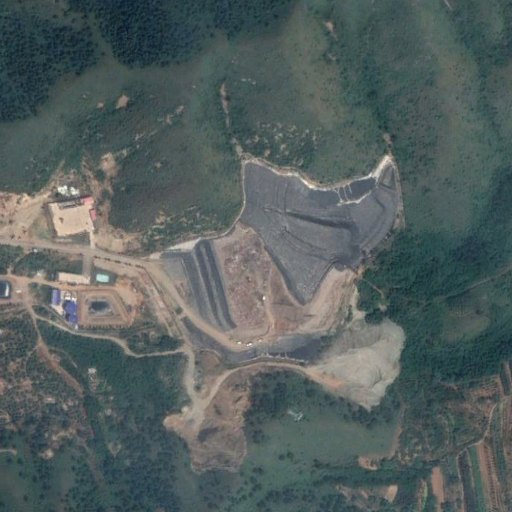lf: (151, 152, 401, 366)
